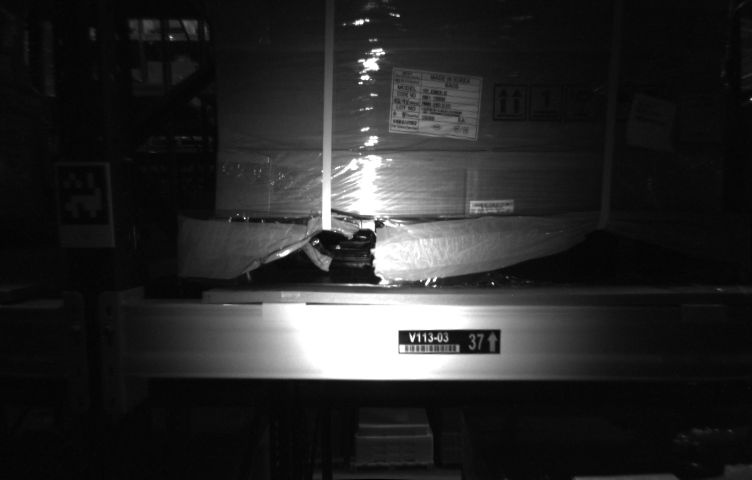True Barcode: (680, 93, 724, 142)
